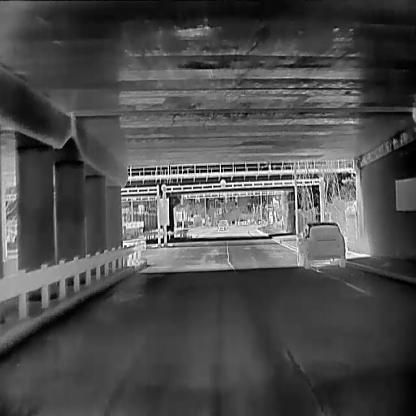car: (295, 219, 345, 268), (216, 217, 229, 230)
truck: (121, 210, 144, 239)
